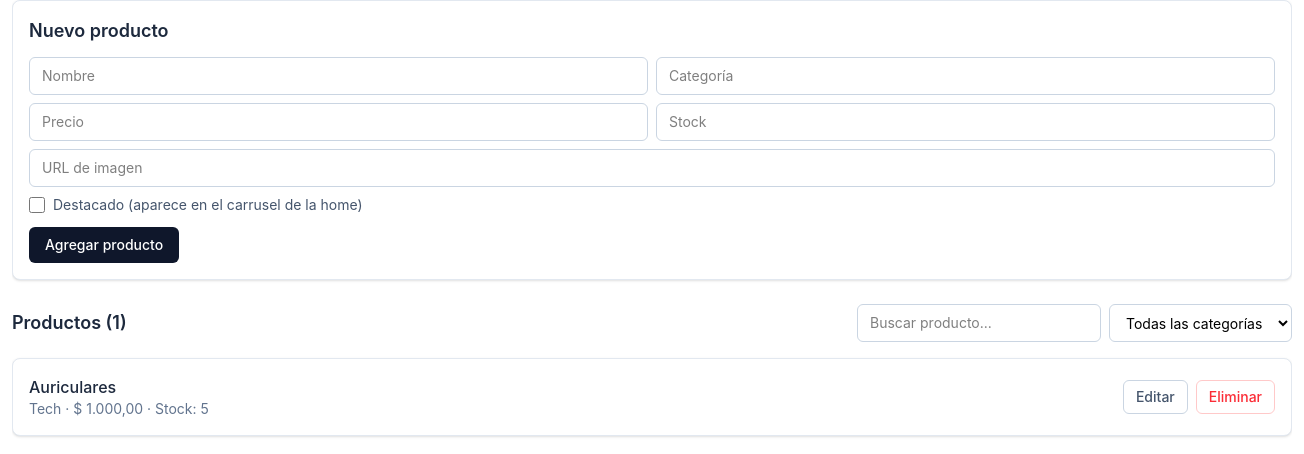
Test case: AdminProducts › elimina un producto tras confirmar
Click the button "Eliminar". click: (1235, 397)
box: left=1196, top=380, right=1275, bottom=414
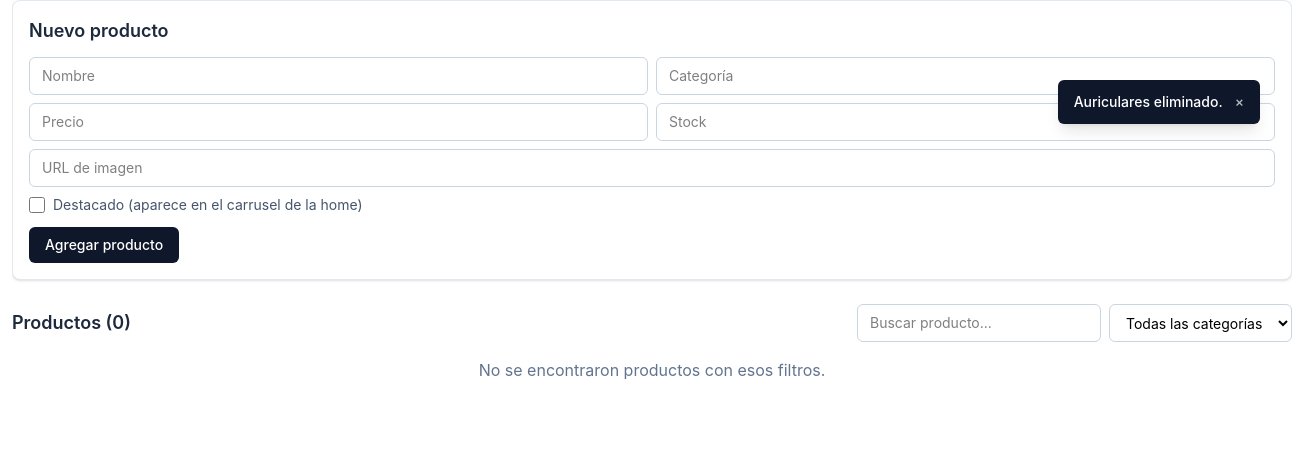
Check: the text "Auriculares eliminado." is shown, box left=1074, top=92, right=1223, bottom=112
